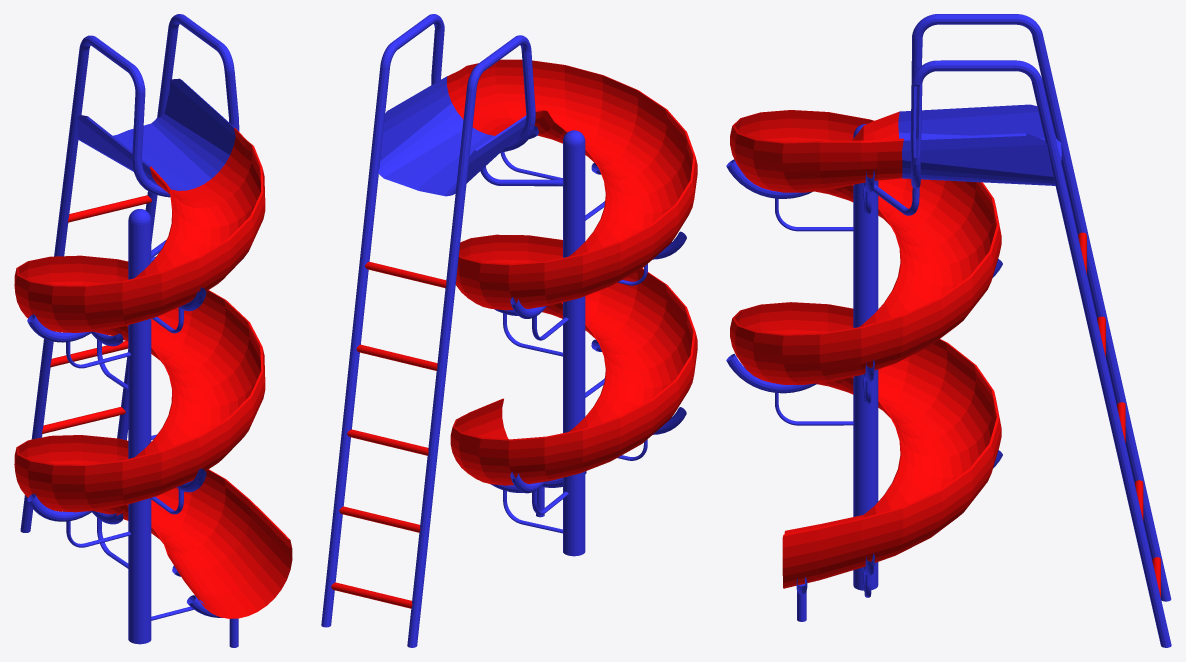
The model's file is spiral-slide.obj.
3 renders of one model, left to right at view 1: azimuth 30°, elevation 25°; view 2: azimuth 150°, elevation 25°; view 3: azimuth 270°, elevation 25°, orthographic. The views are drawn at different scales.
Visible parts, largest first — view 1: Circle_Circle.002, Circle.001_Circle.000, Torus.006_Torus.003; view 2: Circle_Circle.002, Circle.001_Circle.000, Torus.006_Torus.003; view 3: Circle_Circle.002, Circle.001_Circle.000, Torus.006_Torus.003.
Part boxes in pixels (bbox=[...]): Circle_Circle.002: bbox=[14, 128, 292, 618]; Circle.001_Circle.000: bbox=[20, 14, 239, 532]; Torus.006_Torus.003: bbox=[27, 209, 238, 647]; Circle_Circle.002: bbox=[447, 59, 697, 485]; Circle.001_Circle.000: bbox=[321, 14, 535, 647]; Torus.006_Torus.003: bbox=[480, 126, 686, 556]; Circle_Circle.002: bbox=[730, 110, 1001, 588]; Circle.001_Circle.000: bbox=[898, 14, 1171, 647]; Torus.006_Torus.003: bbox=[726, 124, 1002, 621].
Bounding box in the file's own units: 6.74 × 14.89 × 10.28.
